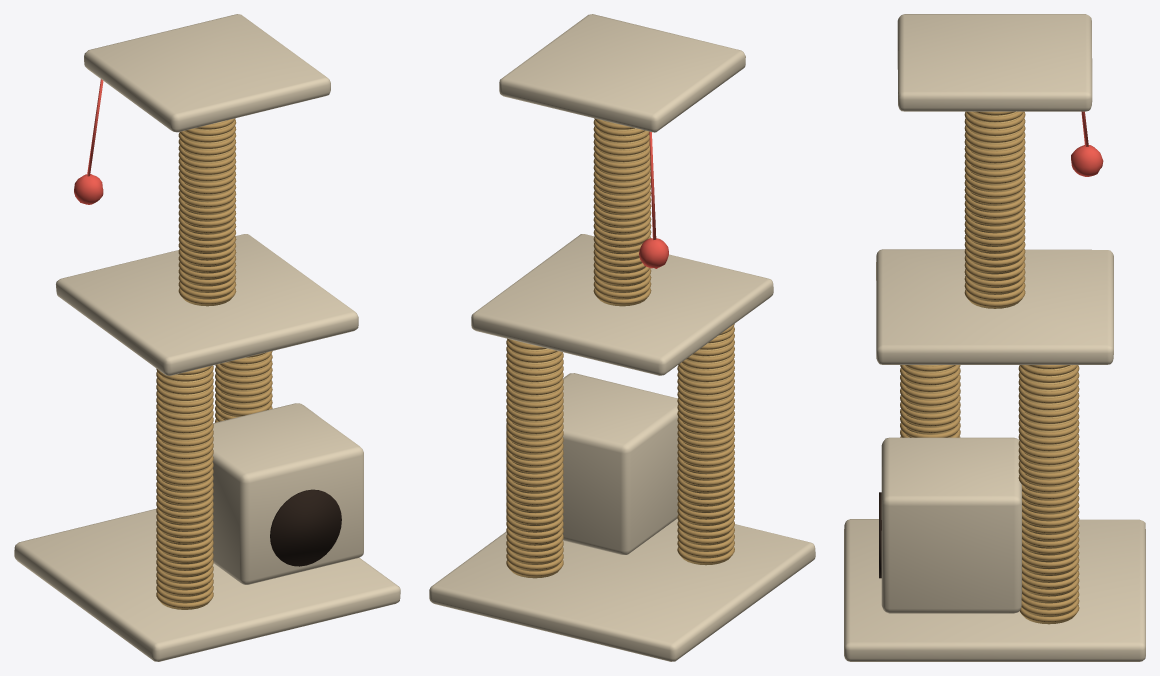
The model's file is decor-cattree.glb.
The picture shows the model from 3 angles, left to right: view 1: azimuth 30°, elevation 25°; view 2: azimuth 150°, elevation 25°; view 3: azimuth 270°, elevation 25°; orthographic projection. The views are drawn at different scales.
Visible parts, largest first — view 1: CatTree__Platforms, CatTree__Sisal, CatTree__House, CatTree__Posts, CatTree__HouseHole, CatTree__Toy; view 2: CatTree__Platforms, CatTree__Sisal, CatTree__House, CatTree__Posts, CatTree__Toy; view 3: CatTree__Platforms, CatTree__Sisal, CatTree__House, CatTree__Posts, CatTree__Toy.
Boxes of the visible parts, box(x1,y1,x2,y2) form: CatTree__Platforms: box(14, 14, 400, 661); CatTree__Sisal: box(156, 118, 272, 608); CatTree__House: box(213, 403, 363, 584); CatTree__Posts: box(160, 120, 267, 609); CatTree__HouseHole: box(270, 489, 341, 566); CatTree__Toy: box(74, 79, 103, 204); CatTree__Platforms: box(429, 14, 815, 661); CatTree__Sisal: box(506, 118, 734, 576); CatTree__House: box(506, 373, 678, 554); CatTree__Posts: box(511, 120, 730, 578); CatTree__Toy: box(639, 131, 668, 268); CatTree__Platforms: box(844, 14, 1145, 661); CatTree__Sisal: box(900, 111, 1079, 622); CatTree__House: box(881, 437, 1021, 613); CatTree__Posts: box(905, 111, 1074, 624); CatTree__Toy: box(1071, 111, 1103, 176).
Size of the model in its own units: 56.05 by 112 by 56.
